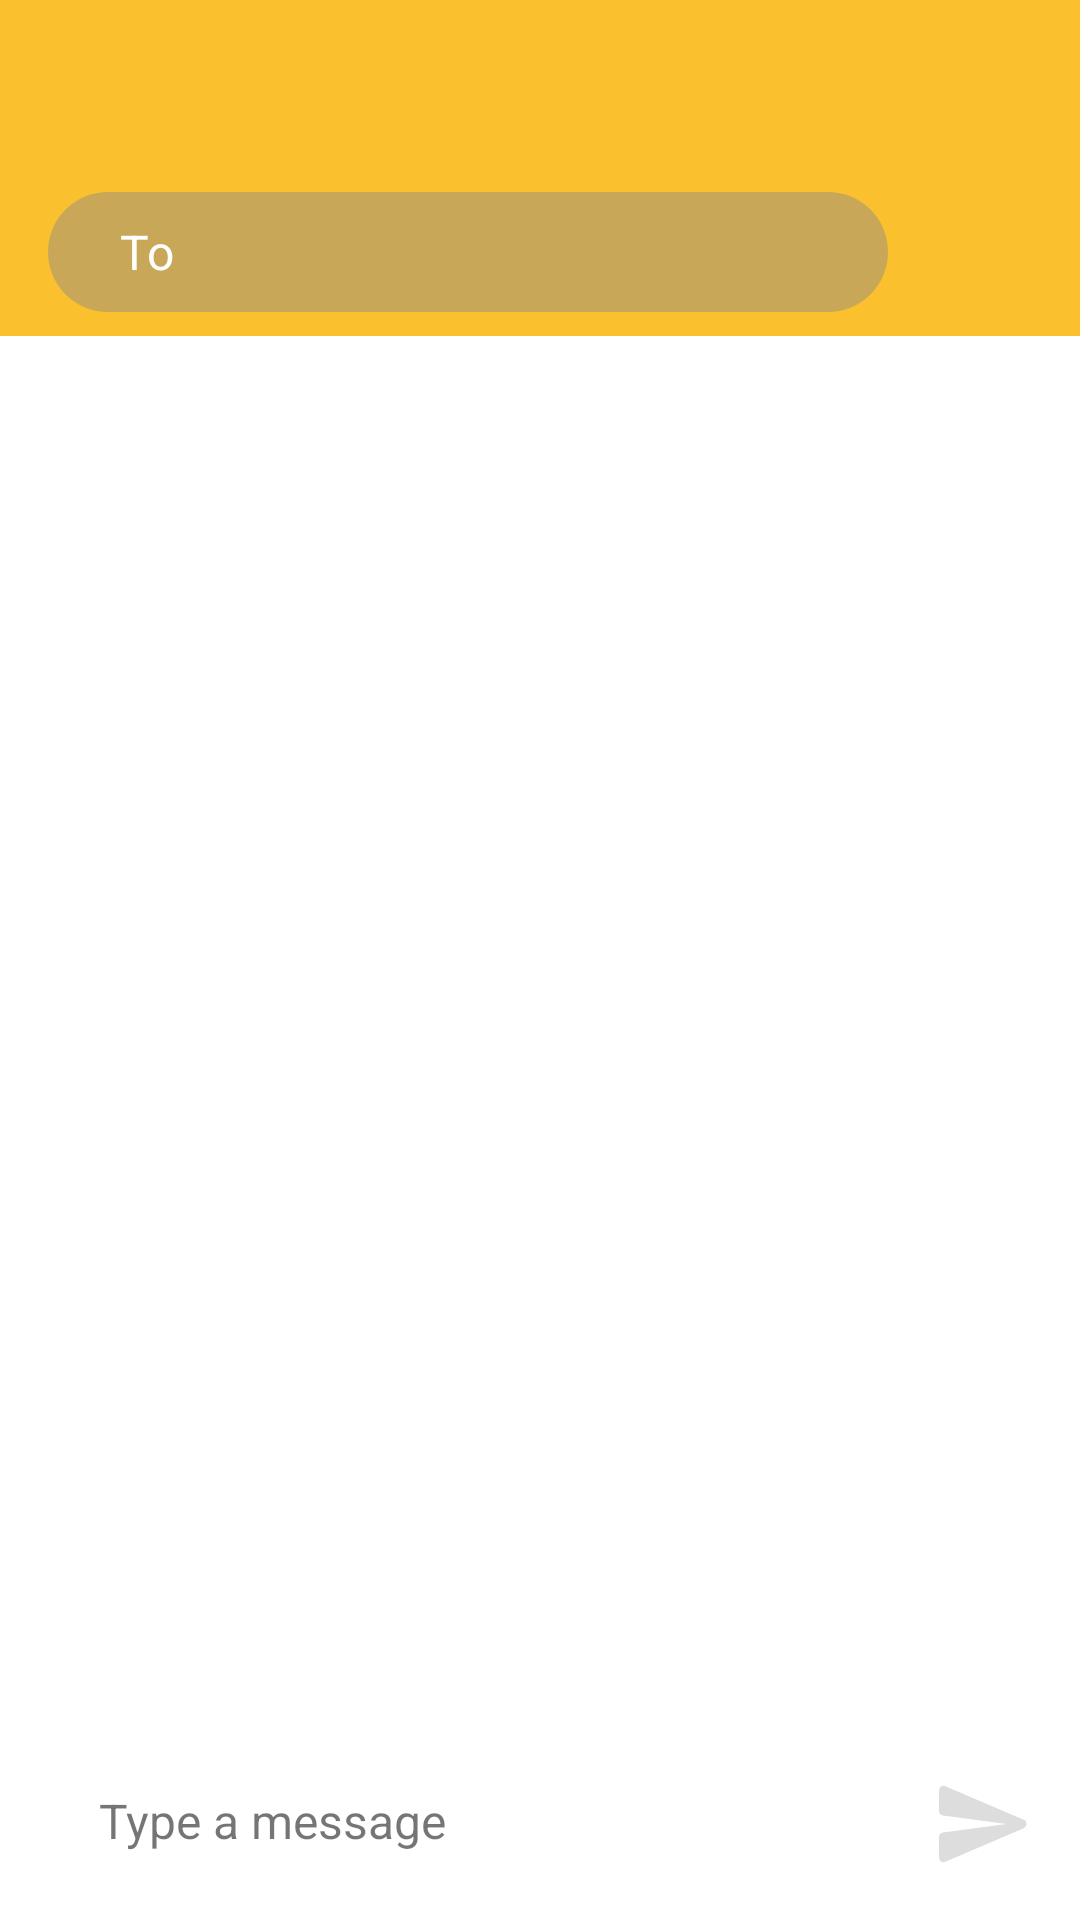

Icons on this 1080×1920 Android screen, each with its box as (x1, y1, x2, y2):
send: (939, 1786, 1026, 1862)
